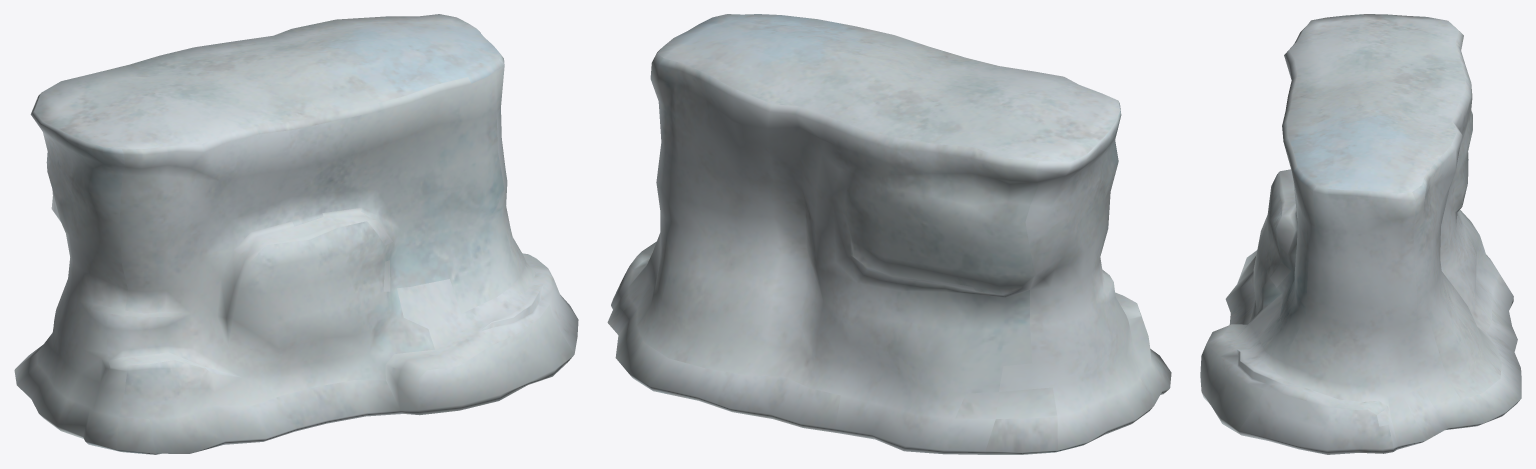
The model's file is P_RockDesert_CliffB06.obj.
The picture shows the model from 3 angles, left to right: view 1: azimuth 30°, elevation 25°; view 2: azimuth 150°, elevation 25°; view 3: azimuth 270°, elevation 25°; orthographic projection. The views are drawn at different scales.
Size of the model in its own units: 94.29 by 52.74 by 59.84.
